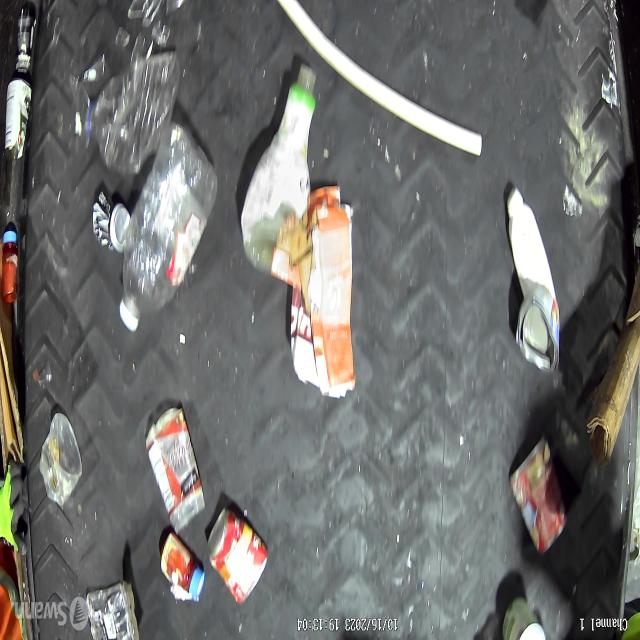can: (508, 434, 569, 555), (207, 503, 270, 604), (514, 286, 561, 378), (3, 77, 34, 166), (91, 188, 131, 256), (14, 6, 37, 74)
plastic_bottle: (116, 119, 218, 337), (80, 45, 181, 178)
